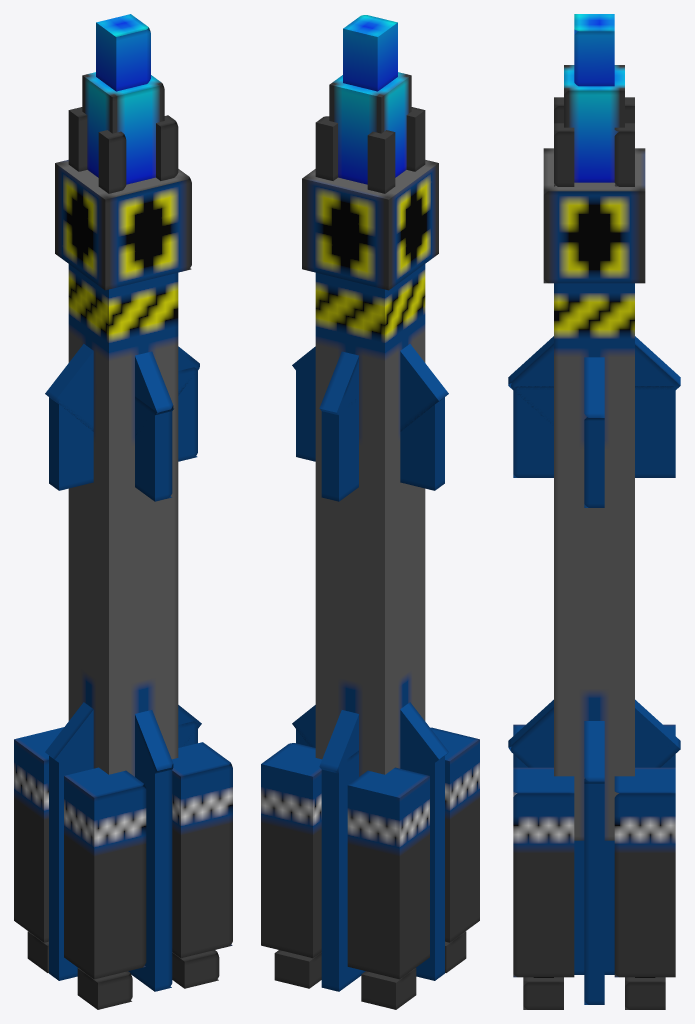
Rendered from missile_endothermic.obj.
3 views of the same model, side by side, from view 1: azimuth 30°, elevation 25°; view 2: azimuth 150°, elevation 25°; view 3: azimuth 270°, elevation 25° (orthographic).
Visible parts, largest first — view 1: MAIN_MODULE, MOTOR_MODULE_4, TOP, MOTOR_MODULE_2, MOTOR_MODULE_3, WING_1B, Shape1d, WING_4B, WING_2B, Shape1e, WING_3A, WING_4A (+9 smaller); view 2: MAIN_MODULE, MOTOR_MODULE_3, TOP, MOTOR_MODULE_1, MOTOR_MODULE_4, WING_1B, Shape1d, WING_4B, WING_2B, Shape1e, WING_3A, WING_4A (+9 smaller); view 3: MAIN_MODULE, MOTOR_MODULE_2, MOTOR_MODULE_1, TOP, WING_3A, Shape1d, WING_2B, WING_1A, WING_3B, WING_1B, Shape1e, WING_4B (+6 smaller).
Part boxes in pixels (x1,y1,x2,y2): MAIN_MODULE: (68,264,178,776); MOTOR_MODULE_4: (64,767,146,979); TOP: (55,160,191,290); MOTOR_MODULE_2: (172,742,232,958); MOTOR_MODULE_3: (14,727,63,942); WING_1B: (128,766,172,991); Shape1d: (82,72,164,184); WING_4B: (49,367,197,490); WING_2B: (49,721,197,980); Shape1e: (96,14,150,91); WING_3A: (135,396,172,501); WING_4A: (45,344,199,431); MAIN_MODULE: (315,264,425,776); MOTOR_MODULE_3: (347,767,429,979); TOP: (302,160,438,290); MOTOR_MODULE_1: (261,743,321,958); MOTOR_MODULE_4: (430,727,479,942); WING_1B: (321,750,365,991); Shape1d: (329,72,411,184); WING_4B: (296,371,444,490); WING_2B: (296,720,444,980); Shape1e: (343,15,397,91); WING_3A: (321,399,358,501); WING_4A: (292,344,448,431); MAIN_MODULE: (554,283,634,840); MOTOR_MODULE_2: (513,767,574,977); MOTOR_MODULE_1: (614,767,675,977); TOP: (543,148,645,283); WING_3A: (513,386,675,477); Shape1d: (564,65,624,182); WING_2B: (584,778,604,1004); WING_1A: (508,699,680,767); WING_3B: (508,336,680,424); WING_1B: (513,754,675,974); Shape1e: (574,14,614,86); WING_4B: (584,417,604,507).
Bounding box in the file's own units: 1.06 × 6.5 × 1.06.
